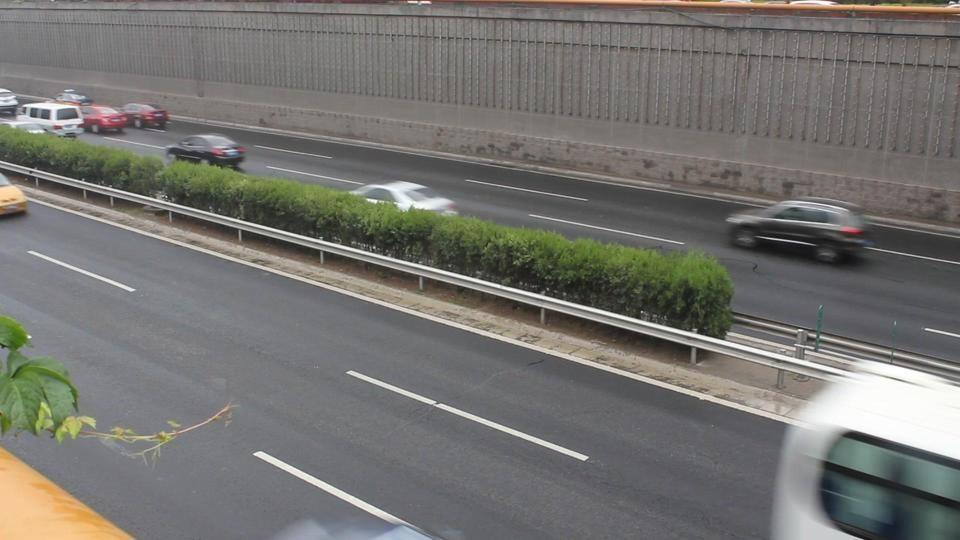car: (769, 362, 960, 536), (725, 199, 875, 264), (346, 181, 459, 215), (163, 134, 248, 168), (23, 101, 85, 134), (120, 102, 171, 131), (0, 172, 29, 219), (82, 105, 127, 134), (54, 89, 93, 106), (0, 88, 19, 118)
